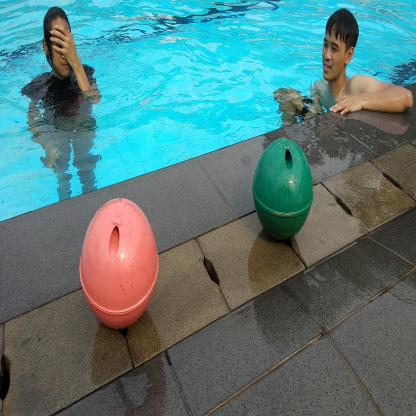green_buoy: (248, 130, 317, 251)
red_buoy: (75, 193, 162, 341)
